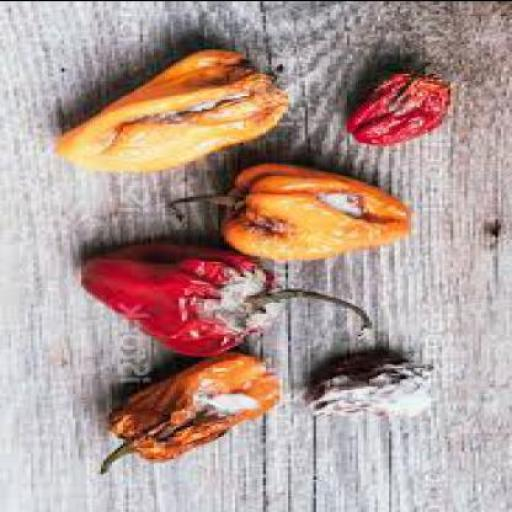biodegradable: (78, 242, 375, 364), (54, 50, 291, 174), (168, 164, 417, 262), (98, 350, 282, 477), (349, 66, 453, 146), (311, 359, 436, 419)
